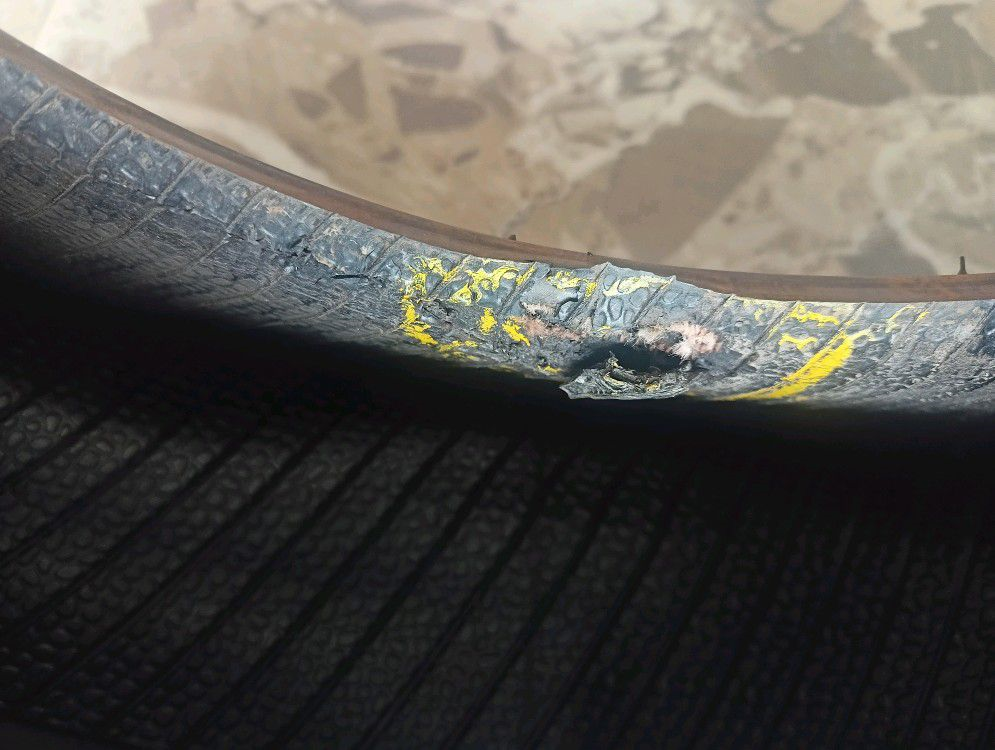bead_damage: (102, 164, 754, 414)
